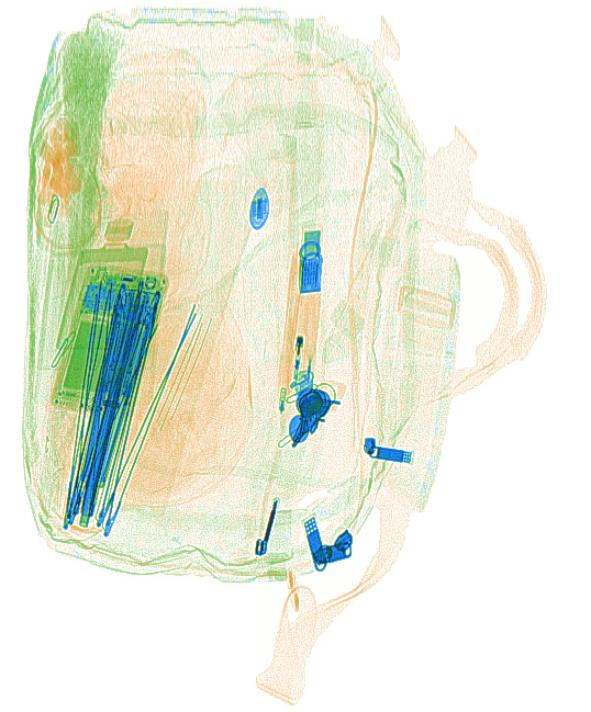USBFlashDisk: (297, 228, 322, 293)
lighter: (277, 253, 322, 395)
